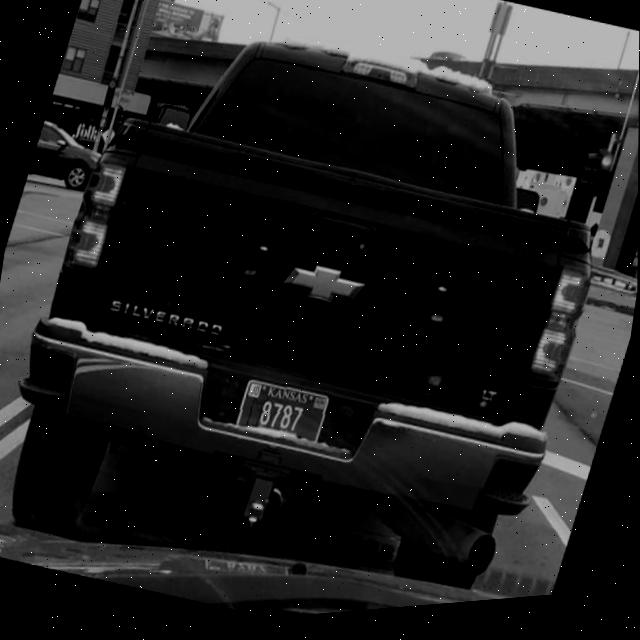LicensePlate: (236, 384, 331, 450)
